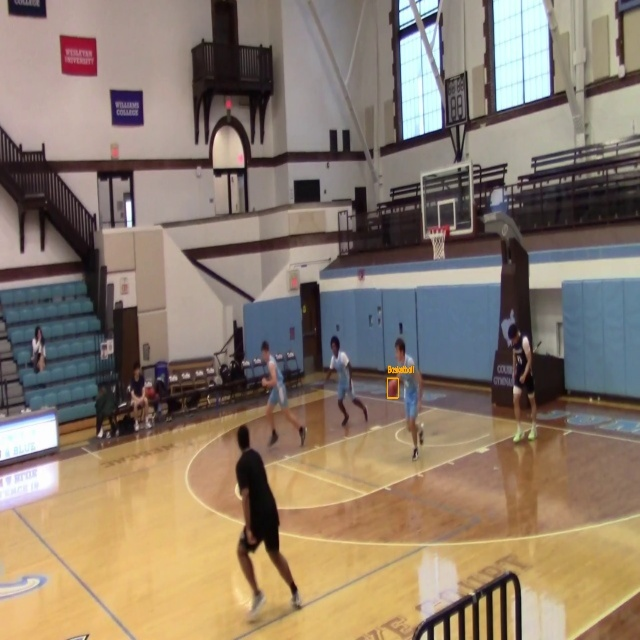Basketball: (387, 379, 398, 398)
